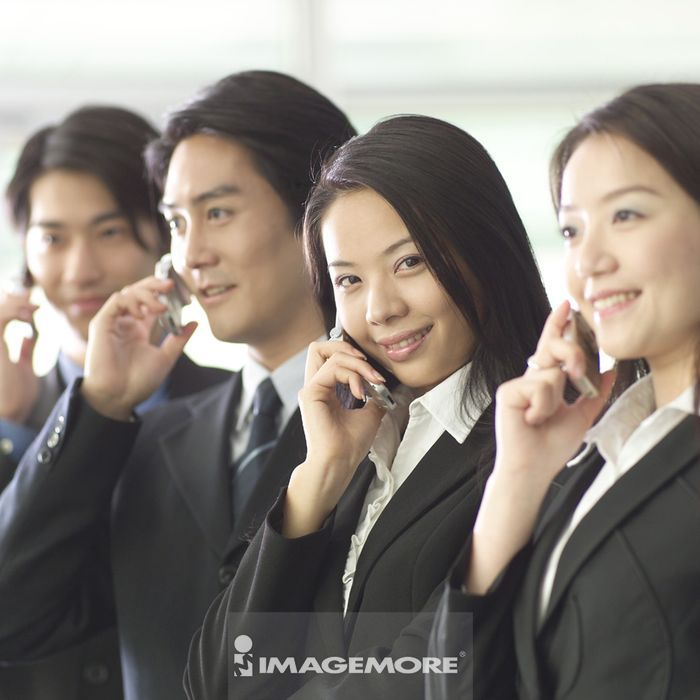talk: (296, 226, 445, 487)
